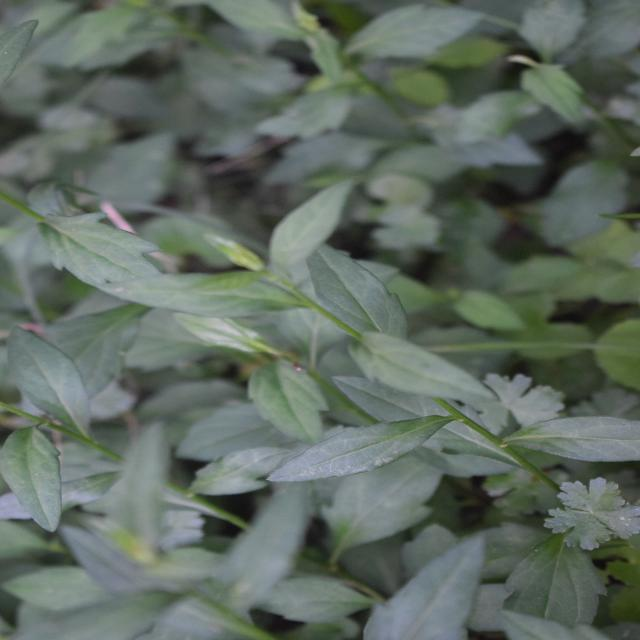Indian aster: (66, 86, 416, 483)
